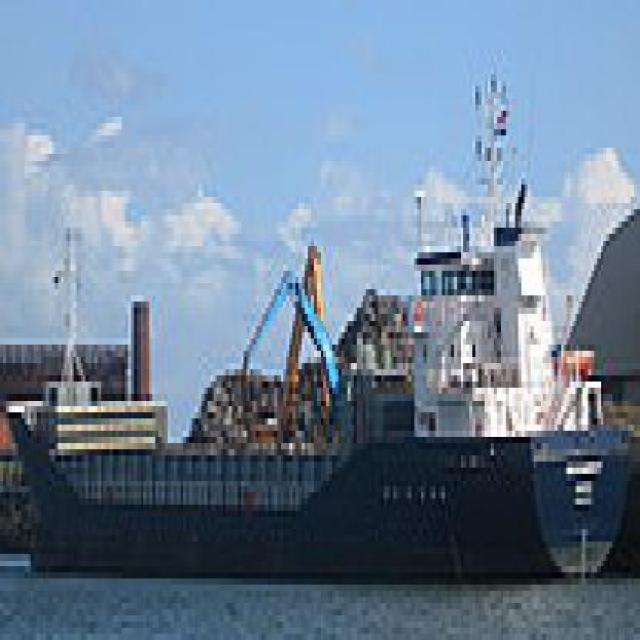container: (1, 180, 638, 611)
